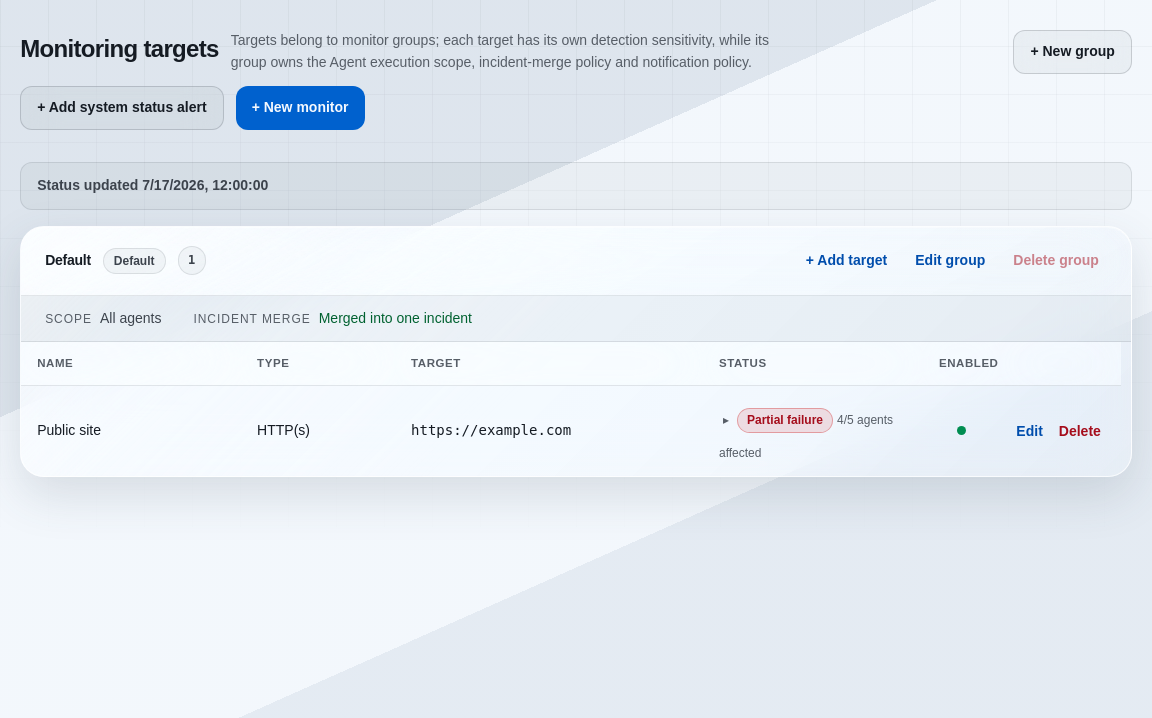
authoritative monitor status composition › shows policy, probe failure, healthy collection, and offline states from the batch
Click the button with class "status-toggle". click: (778, 420)
box: [719,398,837,442]
(page scrolled)
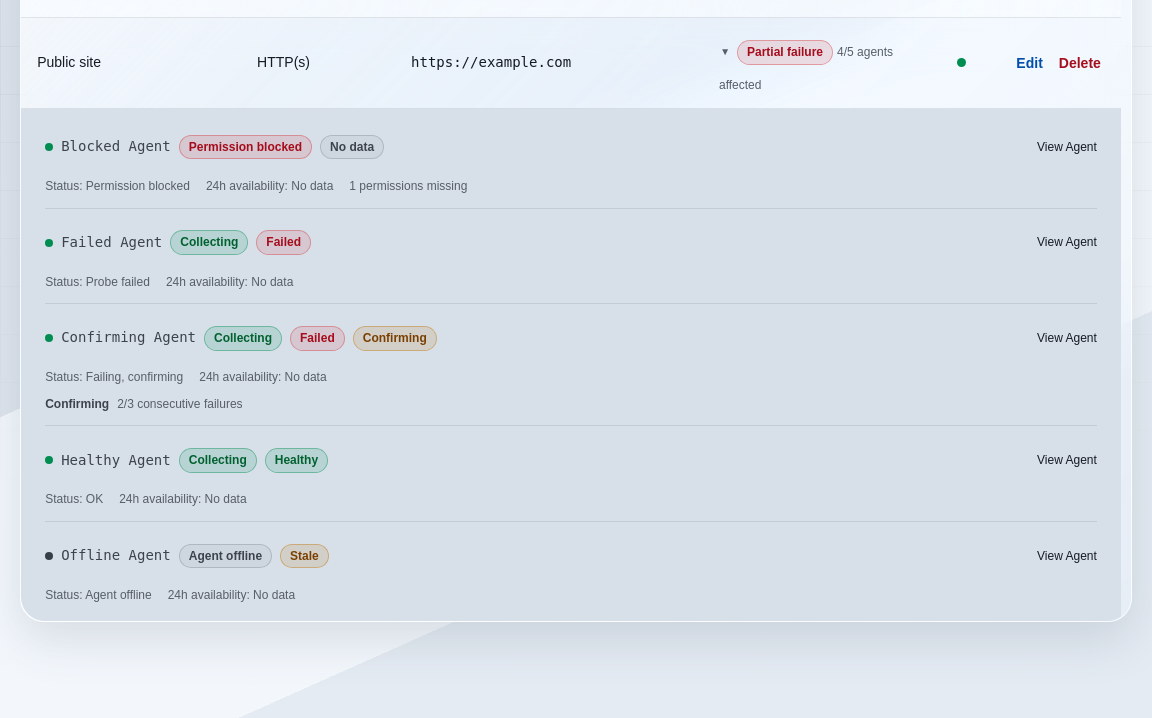
Now the row with class "detail-row" shows "Permission blocked", box [189,140,302,154]
Now the row with class "detail-row" shows "Probe failed", box [45,275,150,289]
Now the row with class "detail-row" shows "Collecting", box [180,235,238,249]
